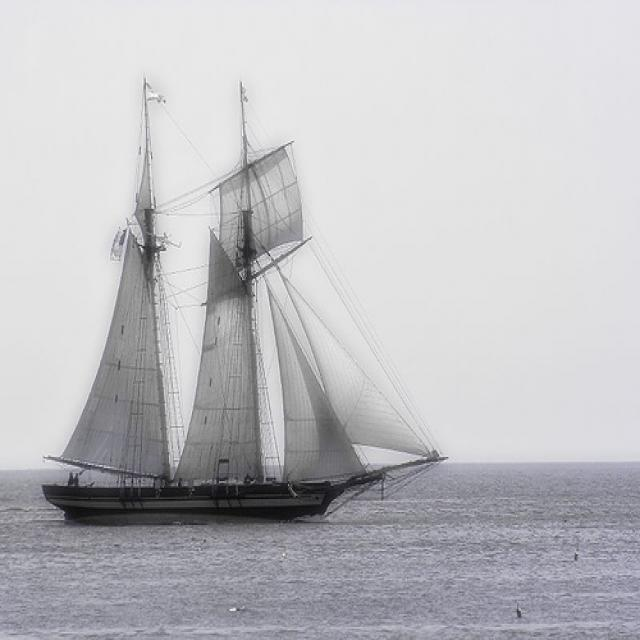Ship: (42, 74, 447, 520)
